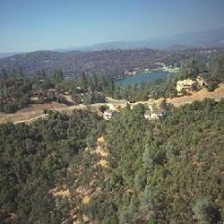neutral: (2, 2, 222, 223)
